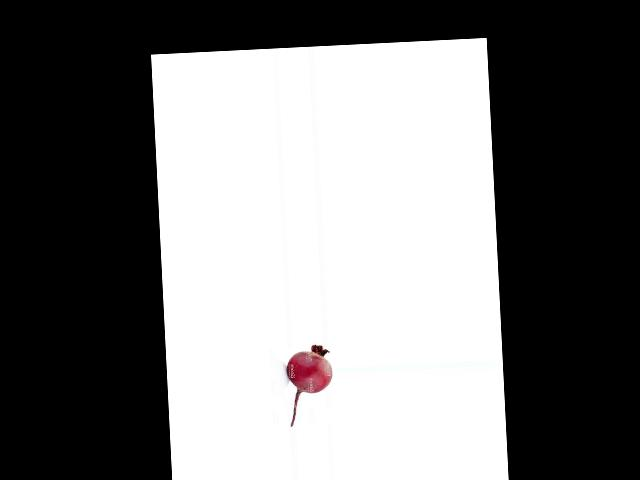beet: (285, 343, 334, 426)
